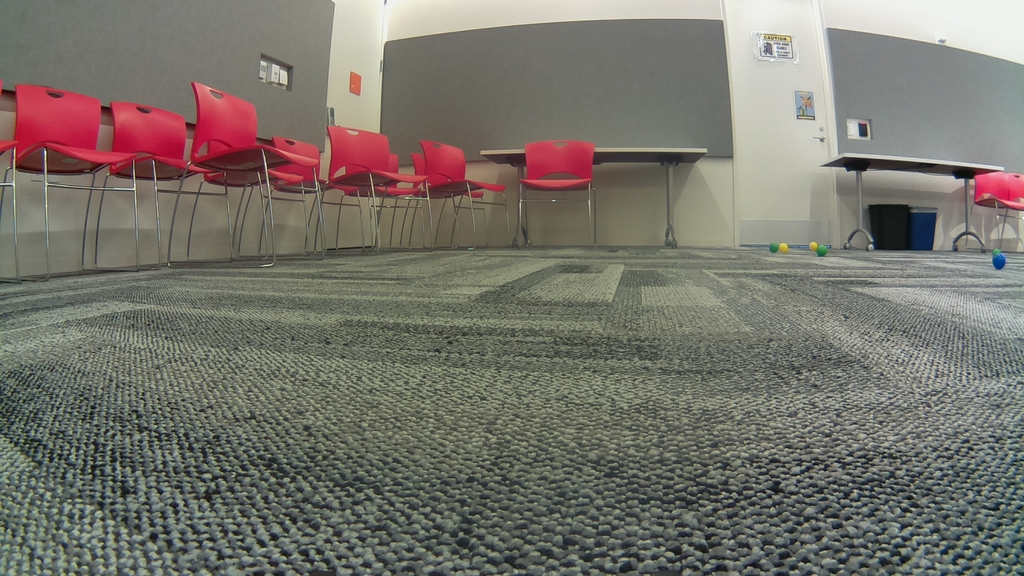ball: (993, 255, 1005, 270)
